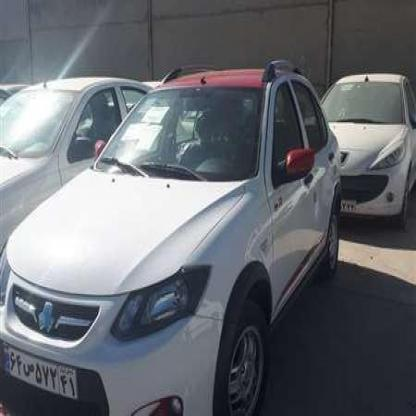Car: (9, 66, 345, 416), (0, 58, 152, 279), (321, 68, 412, 236)
